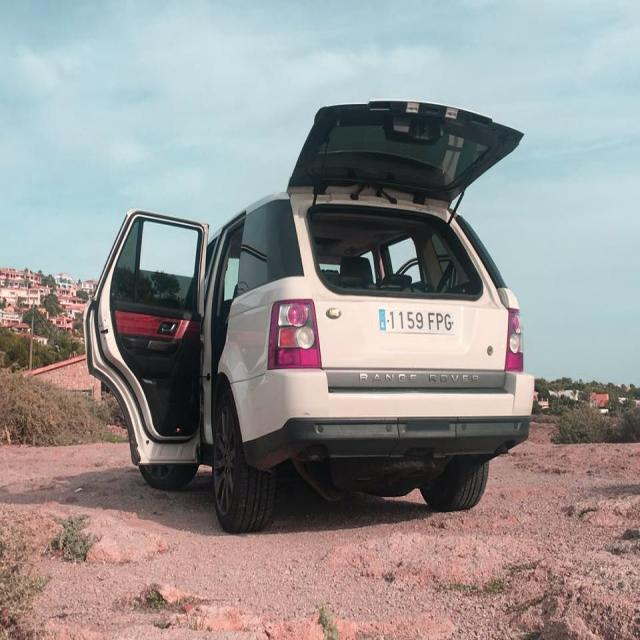License-Plate: (377, 306, 455, 337)
